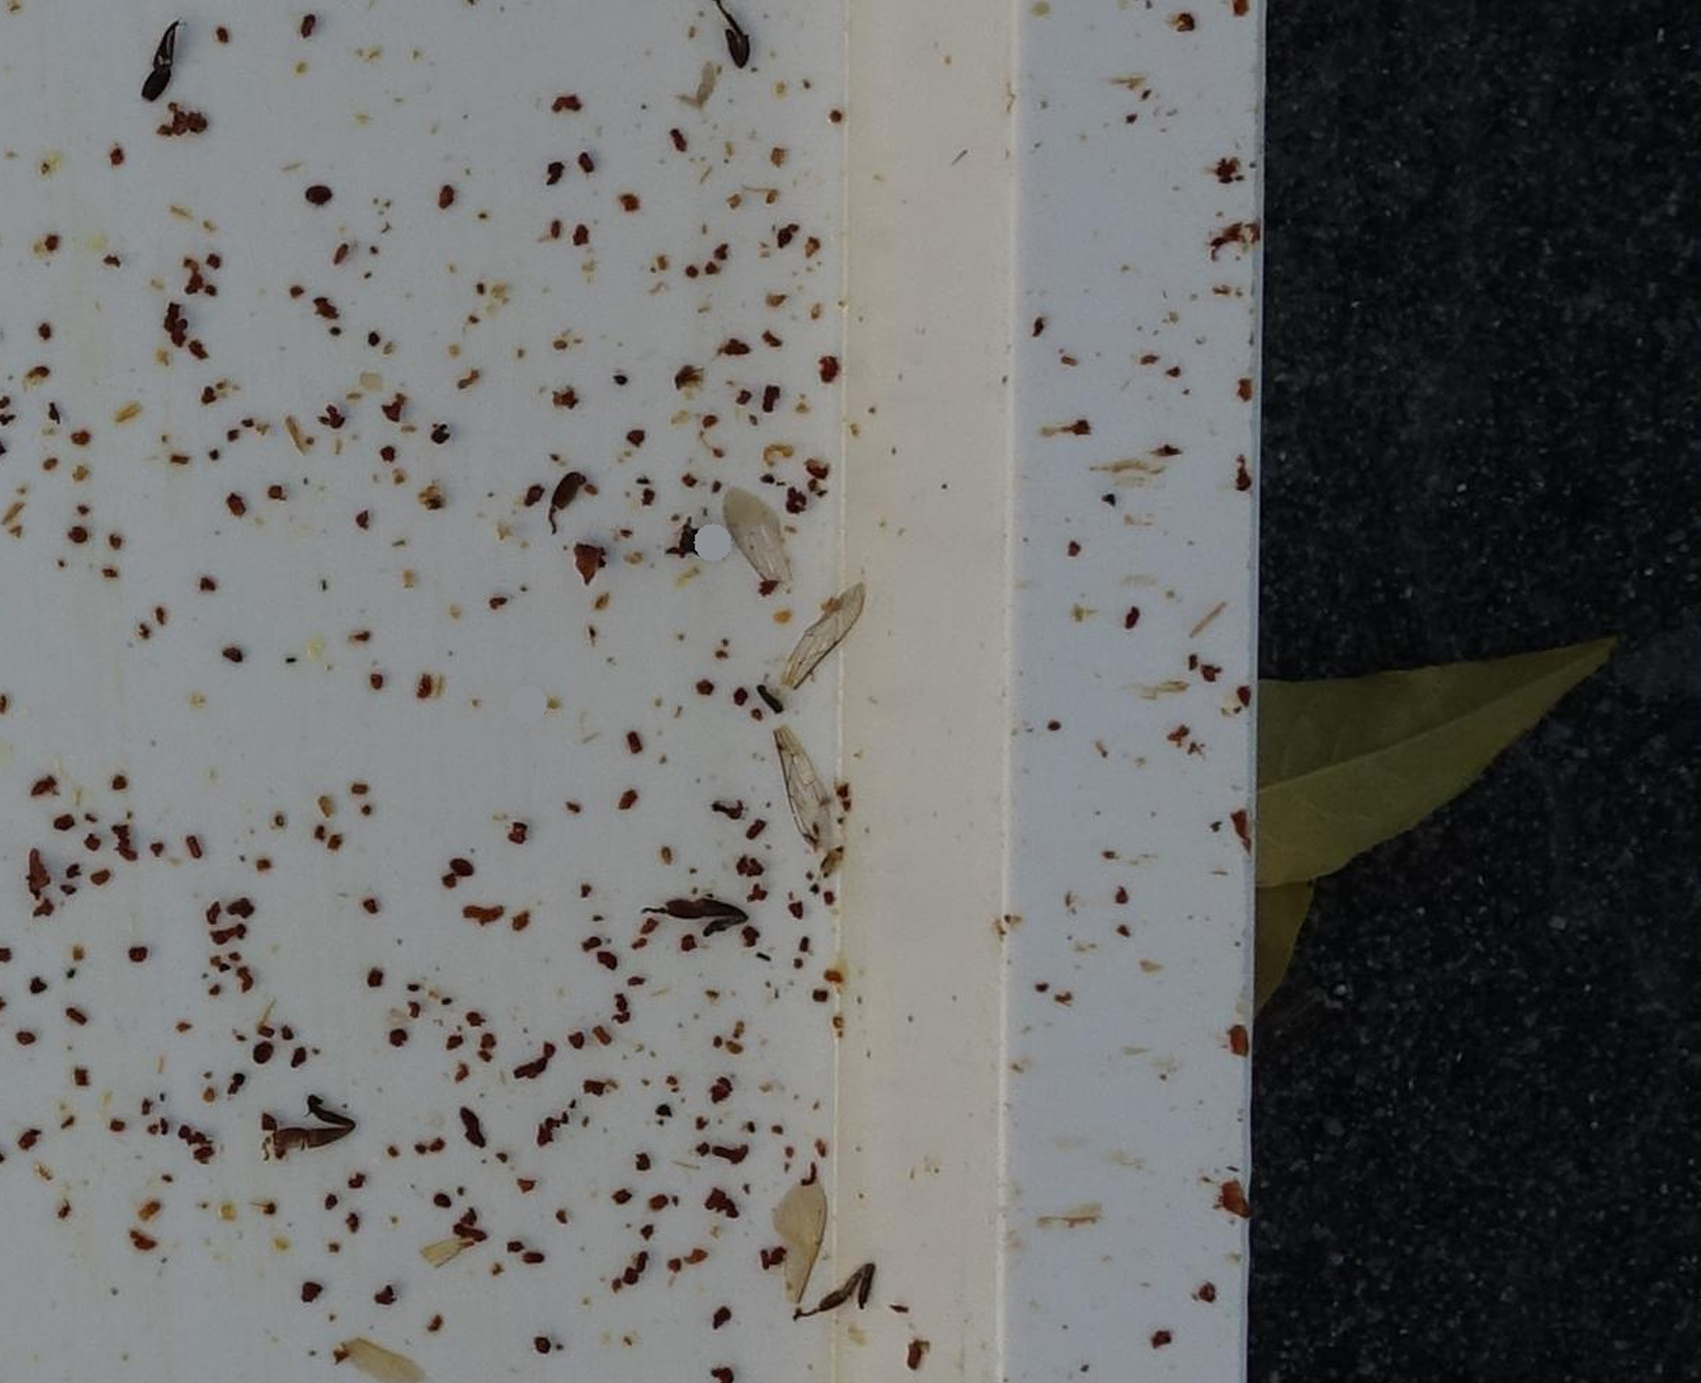Varroa: (449, 857, 471, 881), (819, 360, 841, 384), (311, 185, 329, 205), (256, 1043, 274, 1063)
